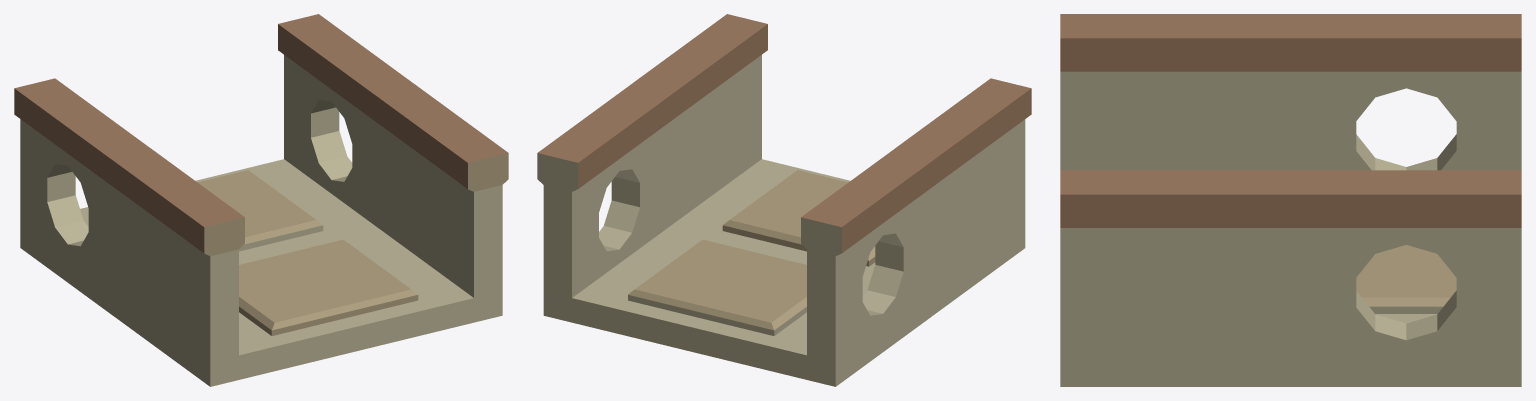
Rendered from bridge_legopieces.fbx.
The picture shows the model from 3 angles, left to right: view 1: azimuth 30°, elevation 25°; view 2: azimuth 150°, elevation 25°; view 3: azimuth 270°, elevation 25°; orthographic projection. The views are drawn at different scales.
Parts seen in each view (by area): view 1: bridge_legopiece1, bridge_legopiece2; view 2: bridge_legopiece2, bridge_legopiece1; view 3: bridge_legopiece1, bridge_legopiece2.
Part boxes in pixels (x1,y1,x2,y2): bridge_legopiece1: (109, 83, 508, 386); bridge_legopiece2: (14, 14, 413, 316); bridge_legopiece2: (537, 83, 936, 386); bridge_legopiece1: (632, 14, 1031, 316); bridge_legopiece1: (1060, 14, 1290, 386); bridge_legopiece2: (1291, 14, 1521, 386).
Size of the model in its own units: 6.48 by 3.28 by 7.
